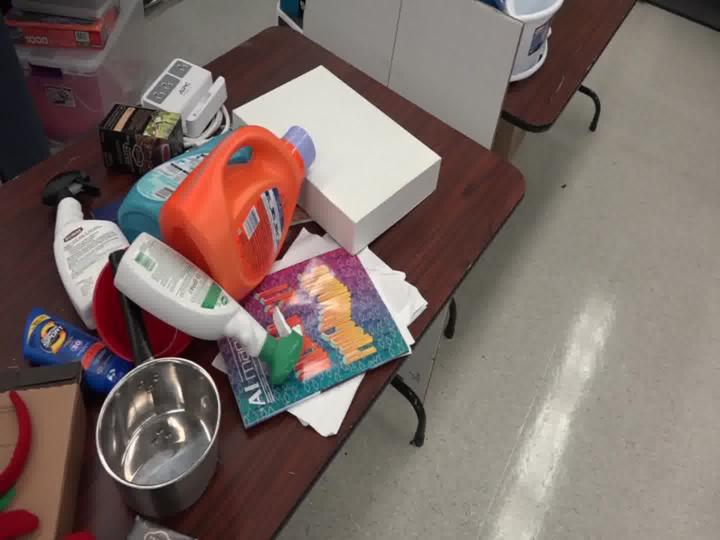tide: (133, 115, 327, 311)
